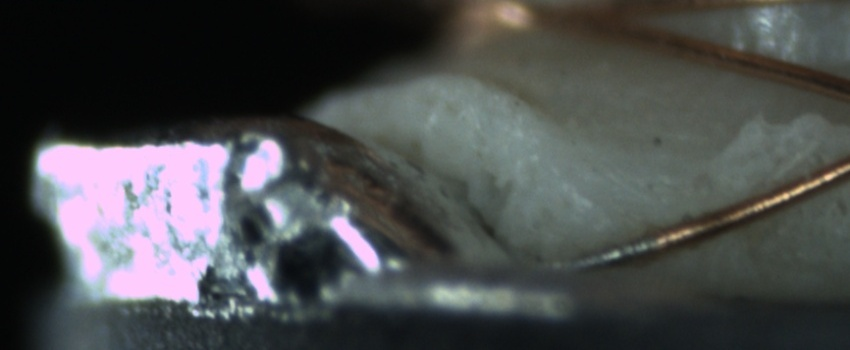TS: (547, 235, 658, 272)
